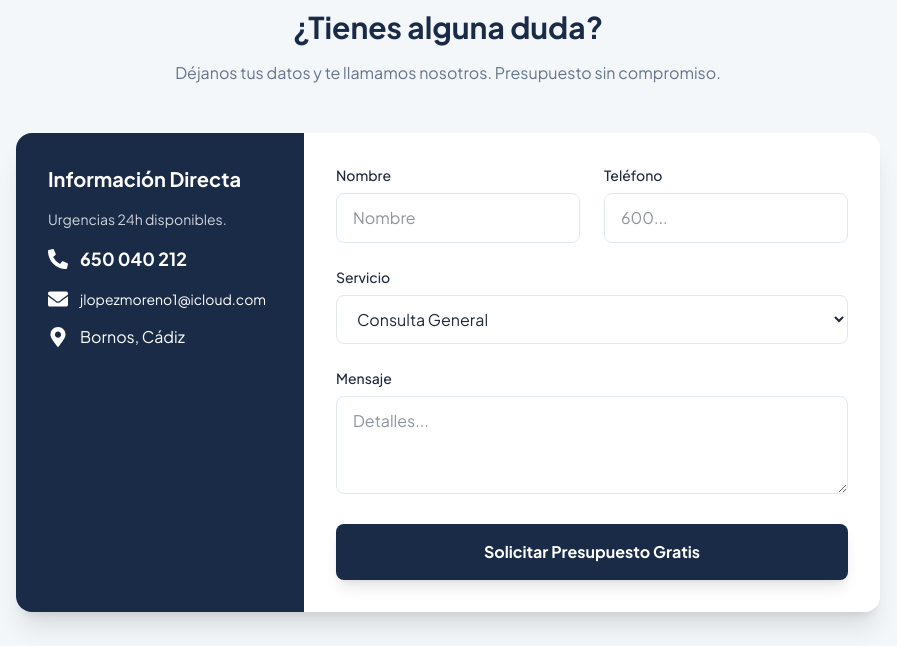
Test: Contact › shows success message after successful submission
Type "Juan" into the field labelled "Nombre". click: point(458, 218)
box: [336, 193, 580, 243]
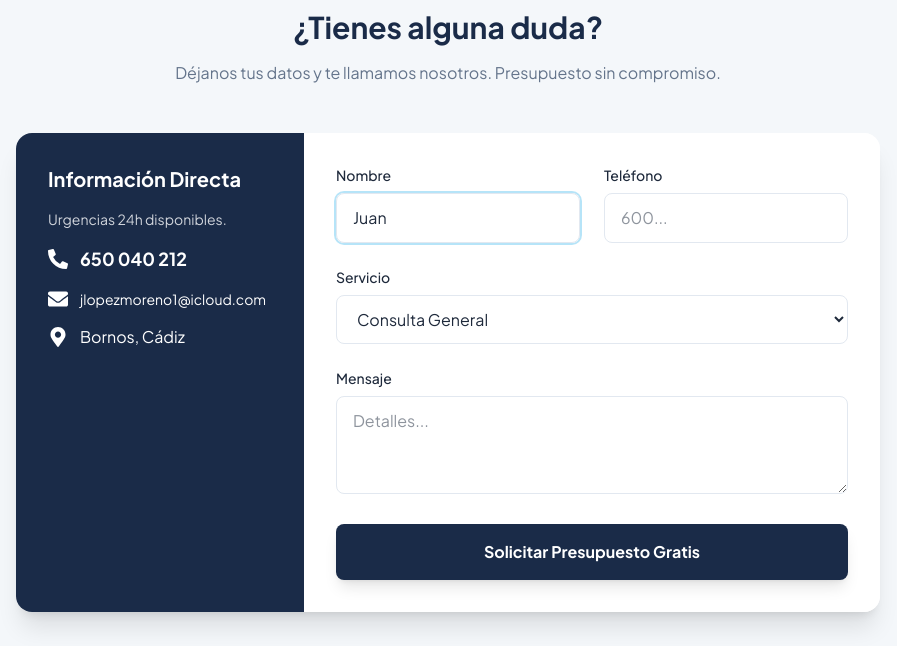
Type "600123456" into the field labelled "Teléfono". click: point(726, 218)
box: [604, 193, 848, 243]
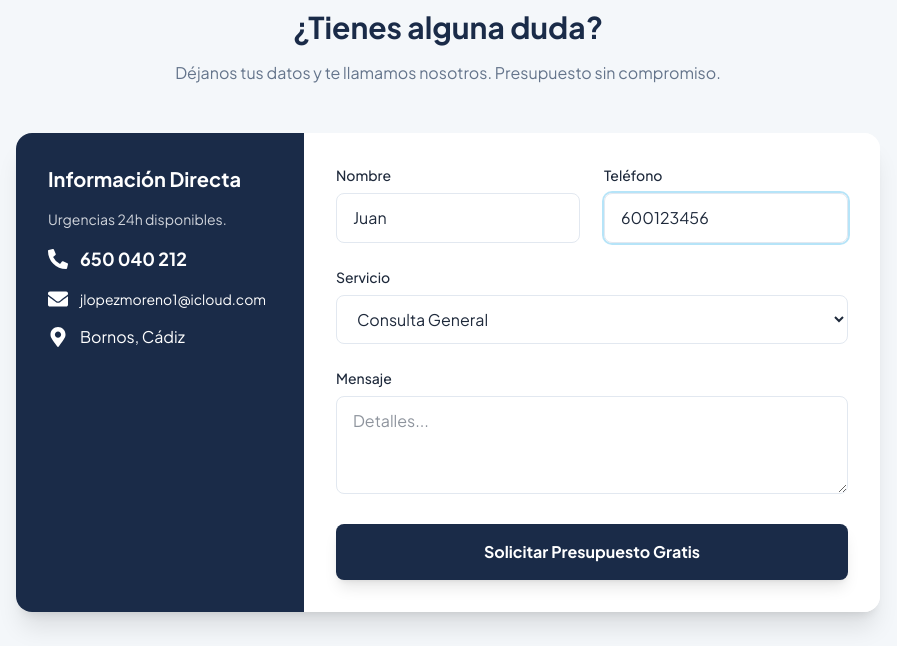
Click the button "Solicitar Presupuesto Gratis". click: point(592, 552)
box: [336, 524, 848, 580]
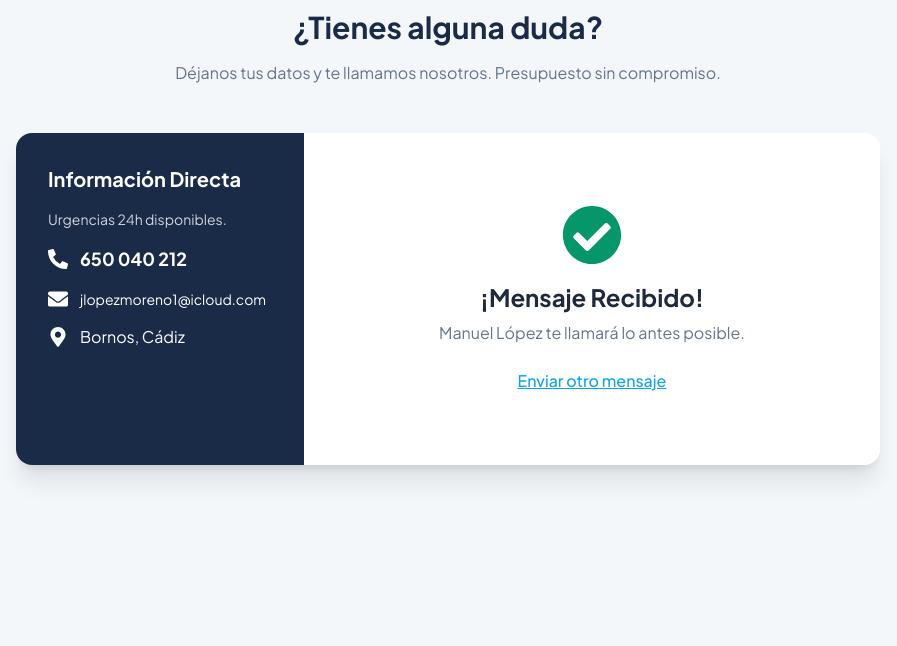
Expected: the heading "¡Mensaje Recibido!" is shown, [480, 281, 704, 313]
